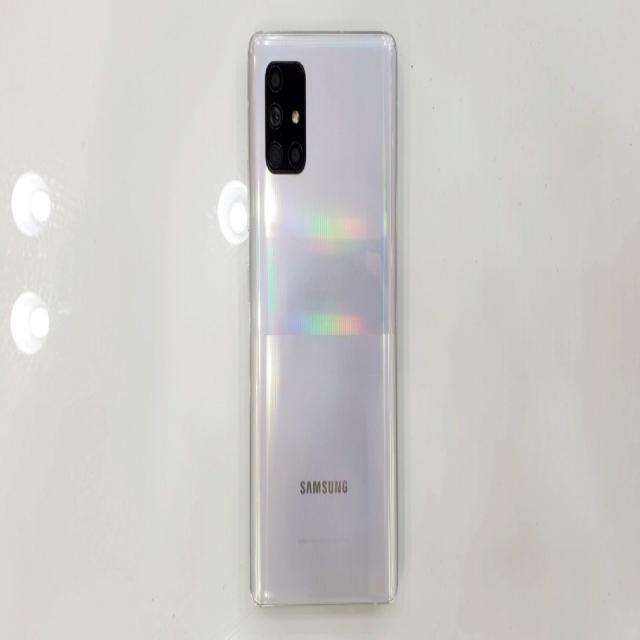phone: (250, 28, 400, 612)
